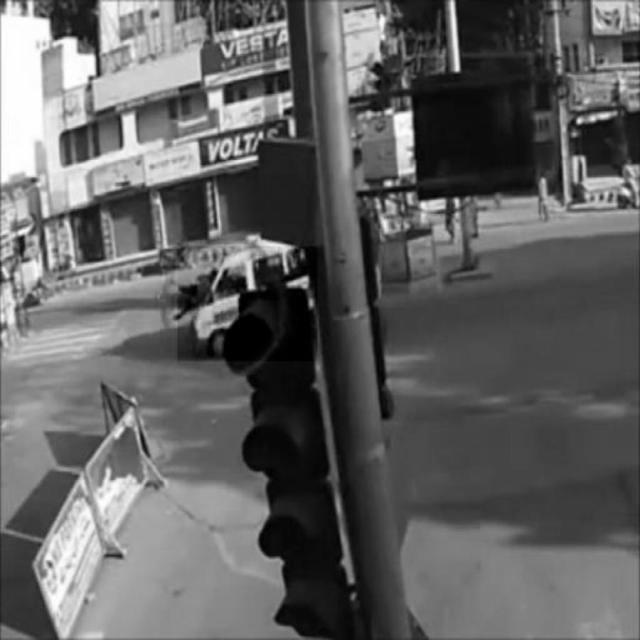accident: (178, 246, 318, 360)
